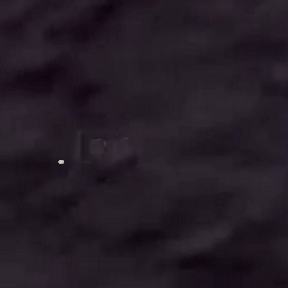Targetw: (57, 159, 66, 165)
